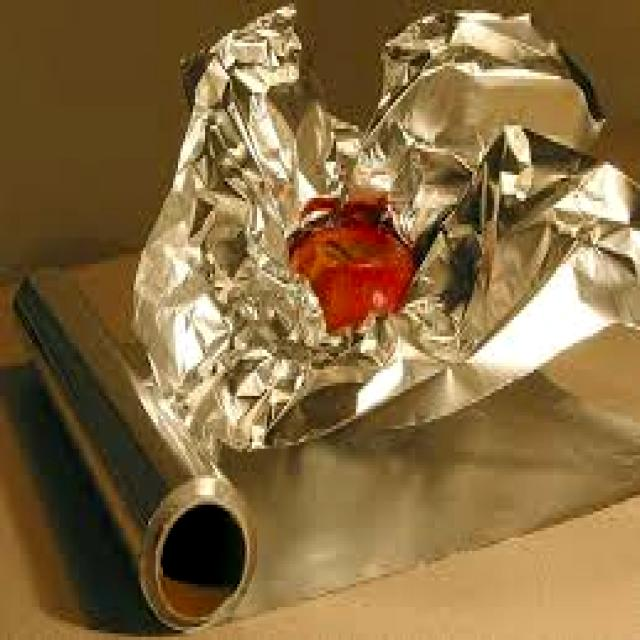Metal: (169, 47, 640, 398)
